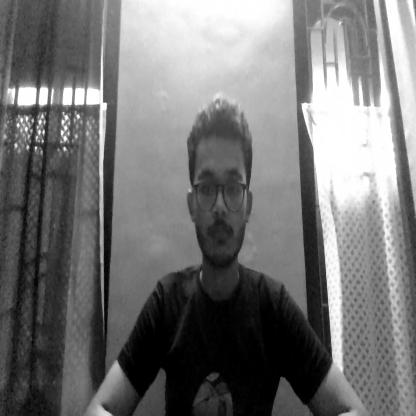Normal: (182, 100, 262, 272)
